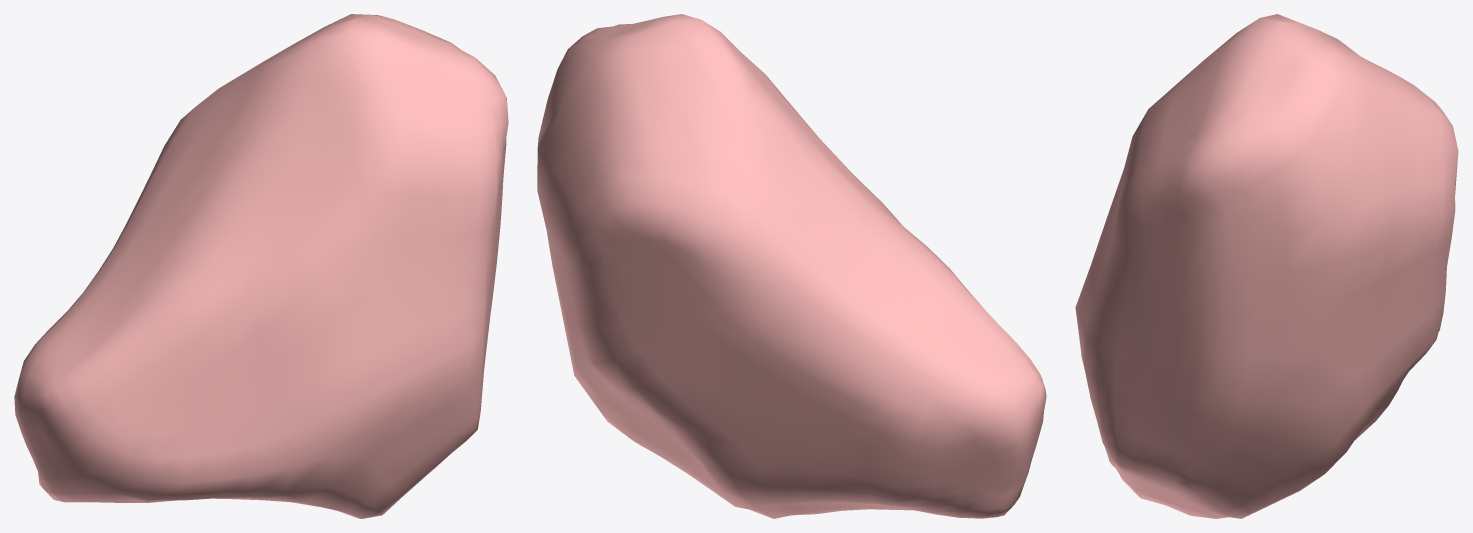
Rendered from MainRock3LowPoly.fbx.
The picture shows the model from 3 angles, left to right: view 1: azimuth 30°, elevation 25°; view 2: azimuth 150°, elevation 25°; view 3: azimuth 270°, elevation 25°; orthographic projection. The views are drawn at different scales.
Parts seen in each view (by area): view 1: PM3D_Cube3D_1; view 2: PM3D_Cube3D_1; view 3: PM3D_Cube3D_1.
Boxes of the visible parts, x1,y1,x2,y2 form: PM3D_Cube3D_1: (14, 14, 508, 518); PM3D_Cube3D_1: (537, 14, 1046, 518); PM3D_Cube3D_1: (1075, 14, 1458, 518).
Size of the model in its own units: 4.74 by 4.5 by 3.08.
